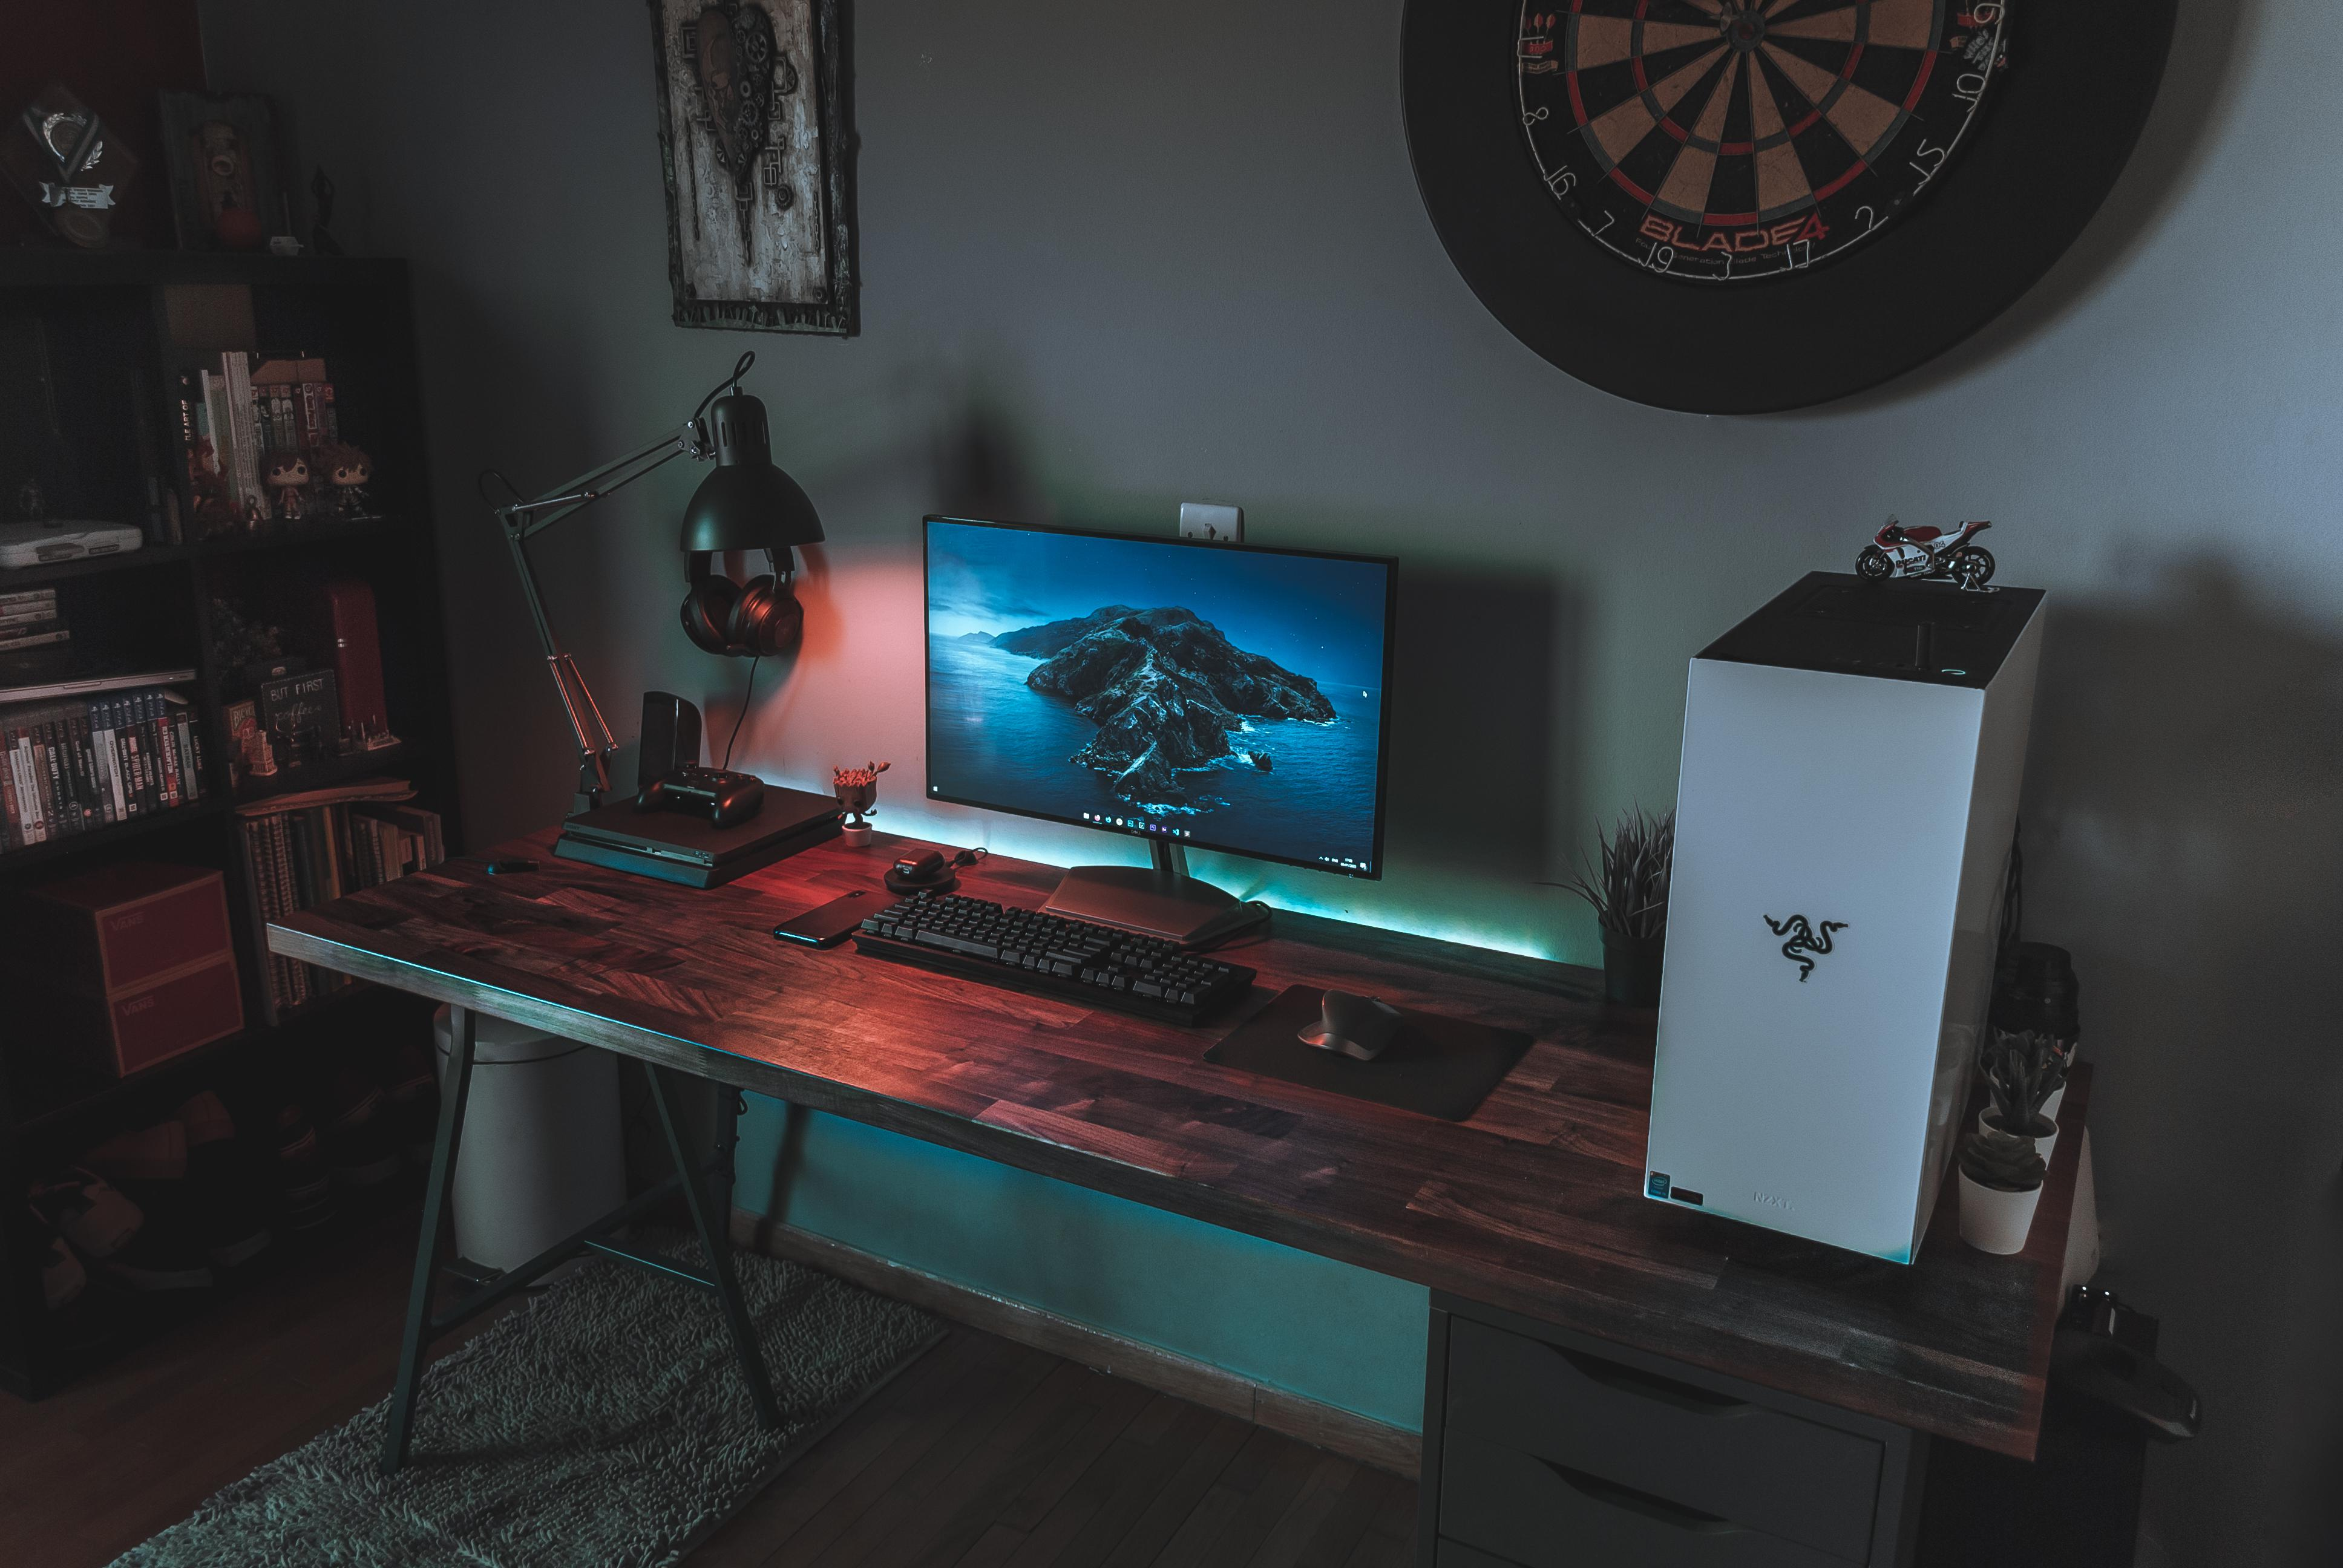Airpods (Apple): (887, 845, 947, 880)
Cellphone: (766, 887, 899, 952)
Cellphone Charger (Wireless): (889, 852, 973, 899)
Decoration (Generic): (1853, 518, 1993, 588)
Decoration (Miniature): (817, 761, 891, 849)
Decoration (Plant): (1531, 805, 1673, 1027), (1974, 1055, 2061, 1171), (1958, 1143, 2046, 1256), (1983, 1024, 2068, 1139)
Desk (Generic): (268, 773, 2091, 1568)
Desktop (Generic): (1629, 577, 2042, 1276)
External Speakers (Generic): (616, 683, 716, 789)
Gaming Console: (542, 765, 843, 885)
Gaming Controller: (628, 756, 766, 828)
Keyboard (Generic): (856, 885, 1258, 1022)
Lamp (Desk): (486, 341, 817, 817)
Monitor (Landscape): (919, 514, 1398, 884)
Mouse (Ergonomic): (1283, 973, 1405, 1060)
Mousepad (Generic): (1202, 978, 1540, 1129)
Storage Drawer: (1396, 1284, 1916, 1559)
